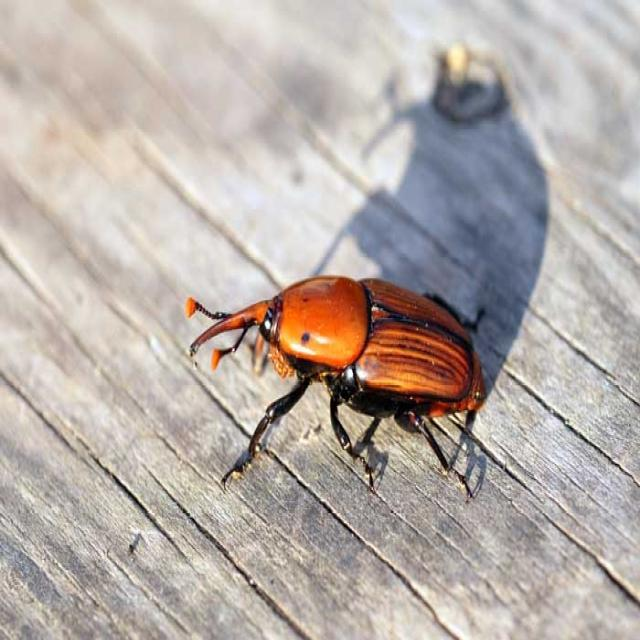Red-palm-weevil: (186, 269, 490, 434)
